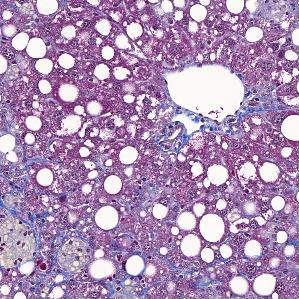fibrosis: (134, 124, 237, 167)
